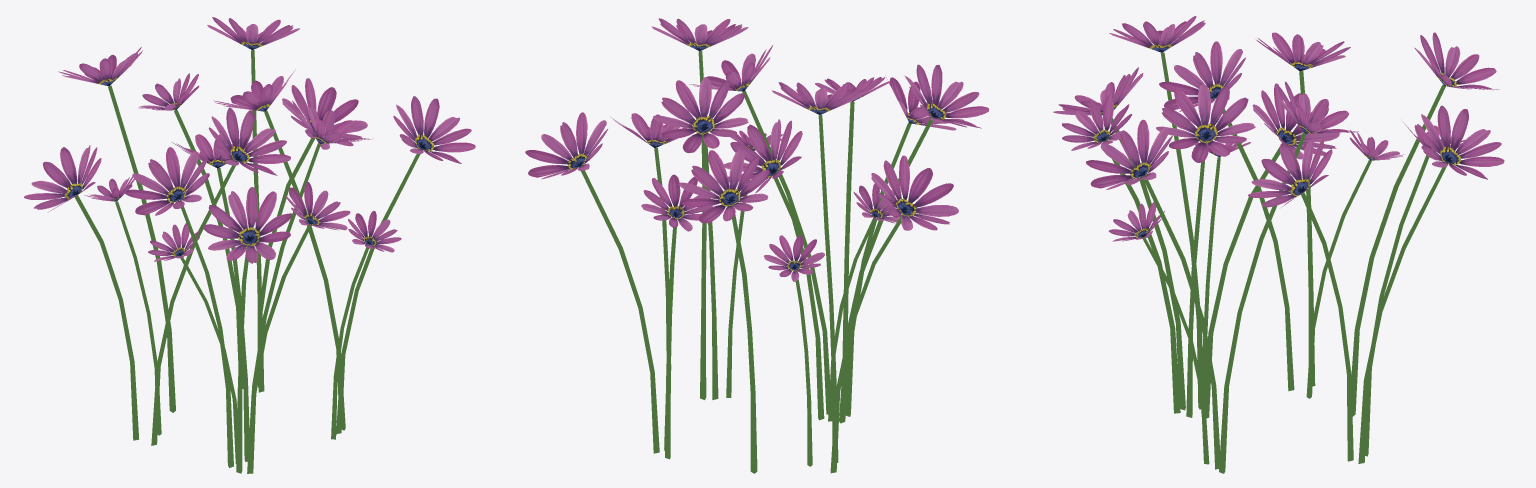
Rendered from SM_Flower_06_03.fbx.
The picture shows the model from 3 angles, left to right: view 1: azimuth 30°, elevation 25°; view 2: azimuth 150°, elevation 25°; view 3: azimuth 270°, elevation 25°; orthographic projection. The views are drawn at different scales.
Parts seen in each view (by area): view 1: SM_Flower_06_03_LOD0; view 2: SM_Flower_06_03_LOD0; view 3: SM_Flower_06_03_LOD0.
Part boxes in pixels (box(x1,y1,x2,y2)): SM_Flower_06_03_LOD0: box(24, 17, 475, 473); SM_Flower_06_03_LOD0: box(525, 18, 989, 473); SM_Flower_06_03_LOD0: box(1053, 16, 1504, 473).
Size of what is drawn, in the model's own units: 74.47 by 64.75 by 76.17.
